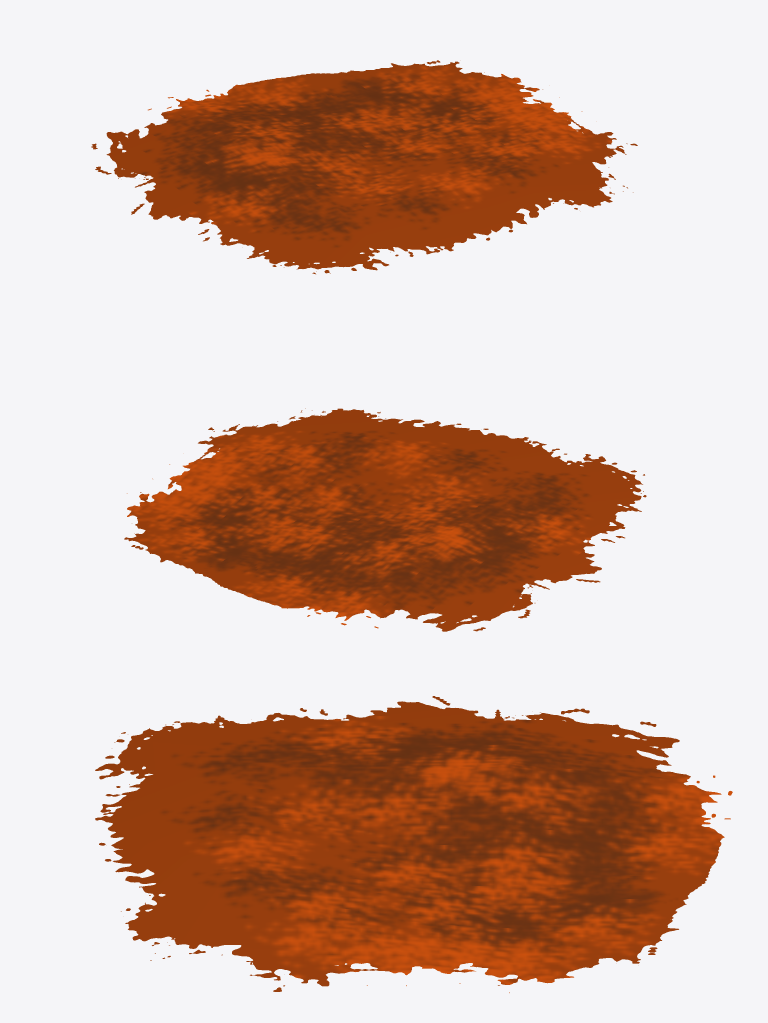
Rendered from Masala.fbx.
3 renders of one model, top to bottom at view 1: azimuth 30°, elevation 25°; view 2: azimuth 150°, elevation 25°; view 3: azimuth 270°, elevation 25°, orthographic. The views are drawn at different scales.
Parts seen in each view (by area): view 1: pPlane18; view 2: pPlane18; view 3: pPlane18.
Boxes of the visible parts, left/top/right/bottom form: pPlane18: left=91, top=60, right=637, bottom=274; pPlane18: left=124, top=408, right=646, bottom=631; pPlane18: left=95, top=696, right=732, bottom=992.
Size of the model in its own units: 1 by 1 by 0.0345.
Materials: 1 (1 with a texture image).
